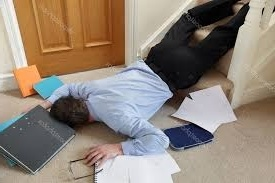fall: (17, 3, 260, 168)
